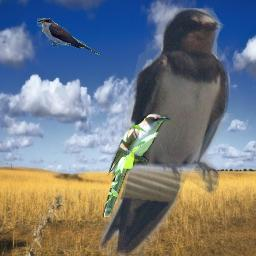Cuckoo: (103, 113, 171, 217), (37, 18, 101, 57)
Swallow: (99, 8, 230, 256)
